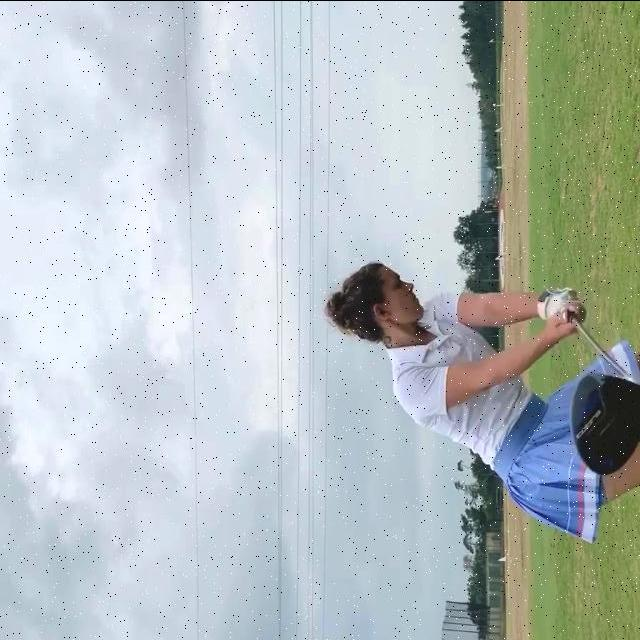golf club-handle: (567, 313, 640, 475)
golf club-head: (569, 372, 640, 474)
